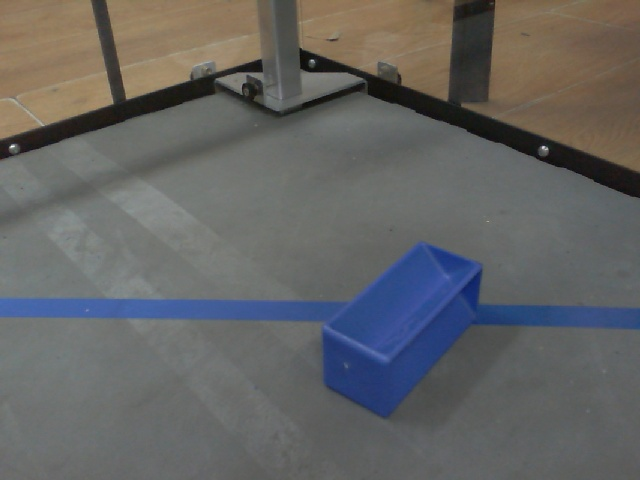BlueSample: (319, 237, 492, 422)
